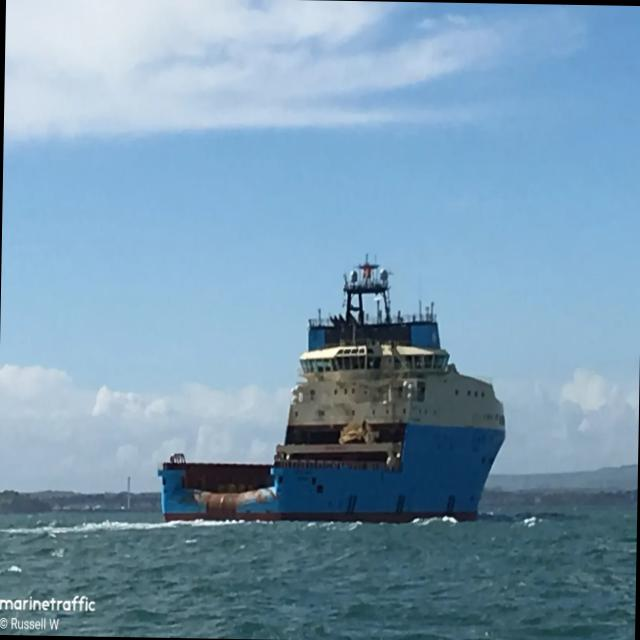Offshore: (157, 256, 504, 522)
